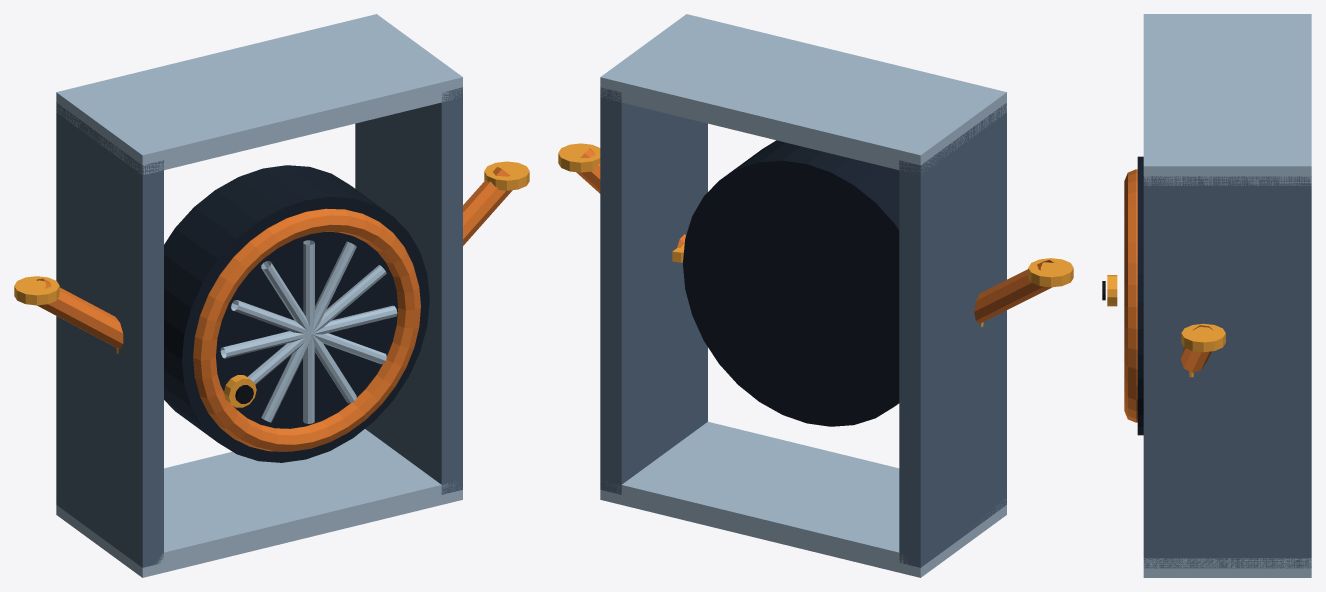
The model's file is 19_L88_AdsorberRegenerationHeaterB.fbx.
3 views of the same model, side by side, from view 1: azimuth 30°, elevation 25°; view 2: azimuth 150°, elevation 25°; view 3: azimuth 270°, elevation 25° (orthographic). The views are drawn at different scales.
Parts seen in each view (by area): view 1: L87_AdsorberRegenerationHeaterB_Part_0000, L87_AdsorberRegenerationHeaterB_Part_0001, L87_AdsorberRegenerationHeaterB_Part_0002, L87_AdsorberRegenerationHeaterB_Part_0003, L87_AdsorberRegenerationHeaterB_Part_0004, L87_AdsorberRegenerationHeaterB_Part_0005; view 2: L87_AdsorberRegenerationHeaterB_Part_0000, L87_AdsorberRegenerationHeaterB_Part_0001, L87_AdsorberRegenerationHeaterB_Part_0002, L87_AdsorberRegenerationHeaterB_Part_0003, L87_AdsorberRegenerationHeaterB_Part_0005; view 3: L87_AdsorberRegenerationHeaterB_Part_0000, L87_AdsorberRegenerationHeaterB_Part_0001, L87_AdsorberRegenerationHeaterB_Part_0003, L87_AdsorberRegenerationHeaterB_Part_0002, L87_AdsorberRegenerationHeaterB_Part_0005, L87_AdsorberRegenerationHeaterB_Part_0006.
Boxes of the visible parts, <box> form: L87_AdsorberRegenerationHeaterB_Part_0000: <box>56,87,462,567</box>; L87_AdsorberRegenerationHeaterB_Part_0001: <box>56,14,462,577</box>; L87_AdsorberRegenerationHeaterB_Part_0002: <box>164,165,429,462</box>; L87_AdsorberRegenerationHeaterB_Part_0003: <box>36,167,512,451</box>; L87_AdsorberRegenerationHeaterB_Part_0004: <box>220,240,397,423</box>; L87_AdsorberRegenerationHeaterB_Part_0005: <box>14,161,529,354</box>; L87_AdsorberRegenerationHeaterB_Part_0000: <box>600,87,1006,567</box>; L87_AdsorberRegenerationHeaterB_Part_0001: <box>600,14,1006,577</box>; L87_AdsorberRegenerationHeaterB_Part_0002: <box>683,140,899,426</box>; L87_AdsorberRegenerationHeaterB_Part_0003: <box>576,148,1053,323</box>; L87_AdsorberRegenerationHeaterB_Part_0005: <box>558,143,1073,327</box>; L87_AdsorberRegenerationHeaterB_Part_0000: <box>1143,176,1311,568</box>; L87_AdsorberRegenerationHeaterB_Part_0001: <box>1143,14,1311,577</box>; L87_AdsorberRegenerationHeaterB_Part_0003: <box>1124,169,1213,422</box>; L87_AdsorberRegenerationHeaterB_Part_0002: <box>1137,156,1143,435</box>; L87_AdsorberRegenerationHeaterB_Part_0005: <box>1181,323,1225,377</box>; L87_AdsorberRegenerationHeaterB_Part_0006: <box>1107,275,1117,306</box>.
Size of the model in its own units: 238 by 189 by 87.2.
